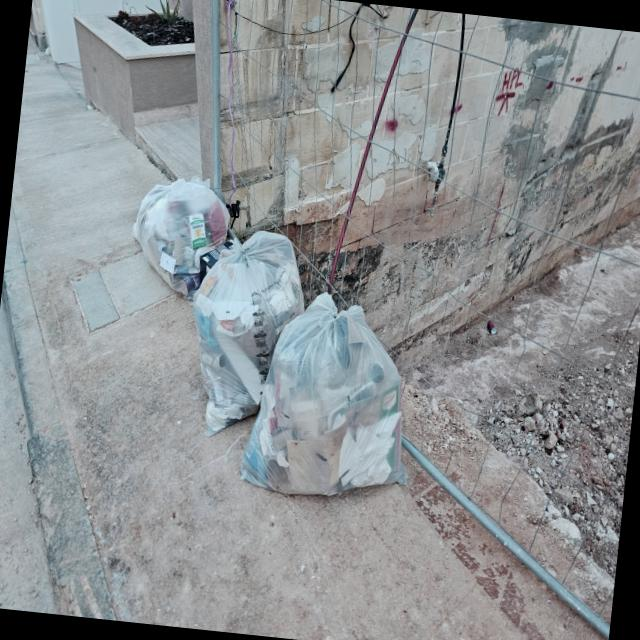grey_bag: (230, 284, 432, 500), (180, 223, 312, 447), (120, 168, 235, 298)
